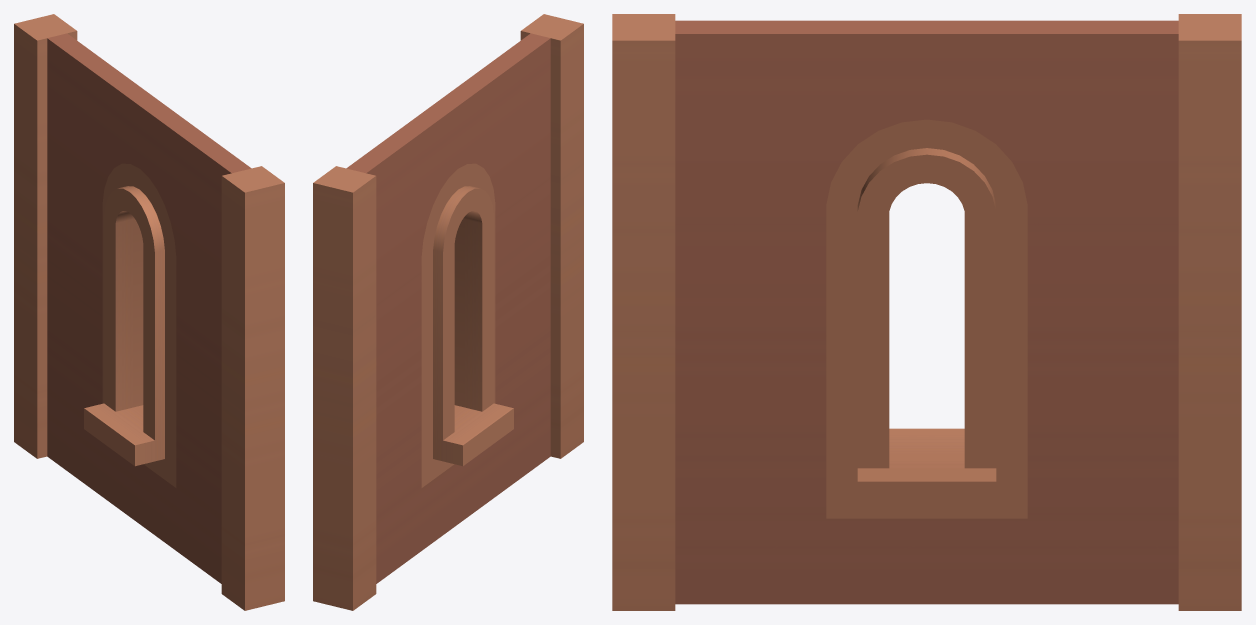
Rendered from wall-wood-window-round.fbx.
3 renders of one model, left to right at view 1: azimuth 30°, elevation 25°; view 2: azimuth 150°, elevation 25°; view 3: azimuth 270°, elevation 25°, orthographic. The views are drawn at different scales.
Visible parts, largest first — view 1: wall-wood-window-round; view 2: wall-wood-window-round; view 3: wall-wood-window-round.
Boxes of the visible parts, <box> form: wall-wood-window-round: <box>14,14,284,610</box>; wall-wood-window-round: <box>313,14,583,610</box>; wall-wood-window-round: <box>612,14,1241,610</box>.
Size of the model in its own units: 20 by 100 by 100.
Materials: 1 (1 with a texture image).
